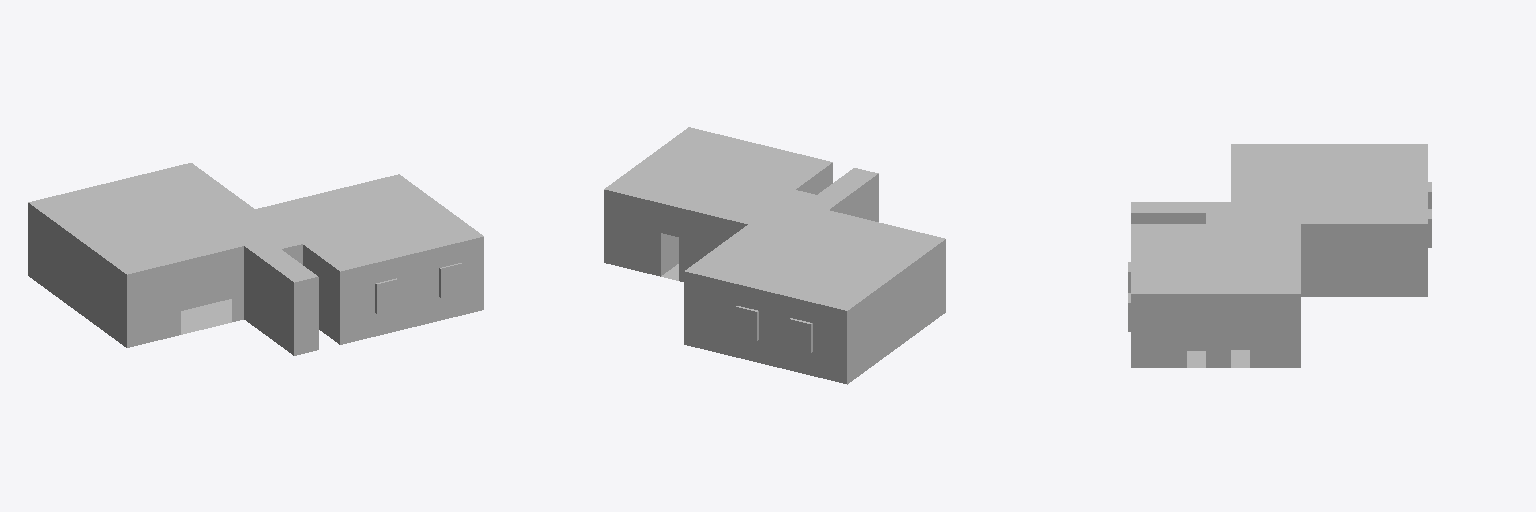
File: Apartment.obj
The picture shows the model from 3 angles: view 1: azimuth 30°, elevation 25°; view 2: azimuth 150°, elevation 25°; view 3: azimuth 270°, elevation 25°; orthographic projection.
Parts seen in each view (by area): view 1: Cube, Cube.005, Cube.004; view 2: Cube, Cube.003, Cube.001; view 3: Cube.
Part boxes in pixels (bbox=[...]): Cube: bbox=[28, 163, 483, 355]; Cube.005: bbox=[440, 263, 461, 297]; Cube.004: bbox=[375, 279, 397, 313]; Cube: bbox=[604, 127, 945, 384]; Cube.003: bbox=[790, 318, 812, 352]; Cube.001: bbox=[736, 306, 757, 340]; Cube: bbox=[1130, 144, 1428, 367].
Bounding box in the file's own units: 89.34 × 20.42 × 76.37.